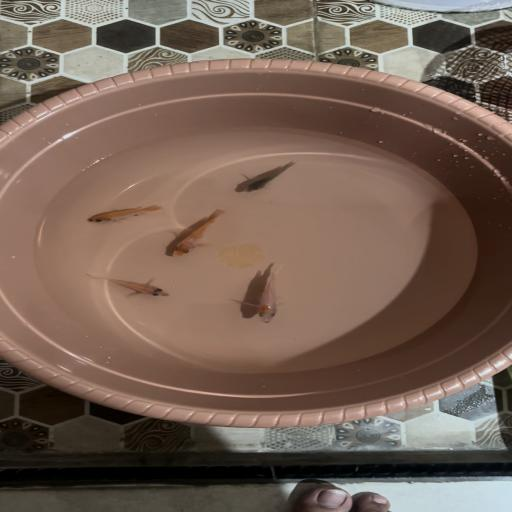nila: (237, 263, 299, 325), (160, 208, 228, 258), (80, 271, 174, 300), (234, 159, 303, 195), (82, 202, 166, 225)
